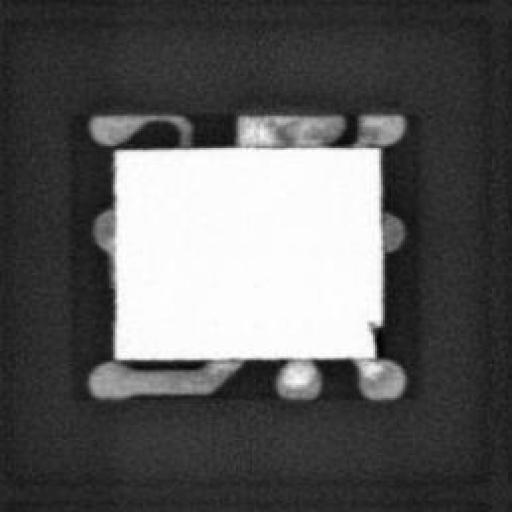DIE_BROKEN: (365, 319, 385, 360)
